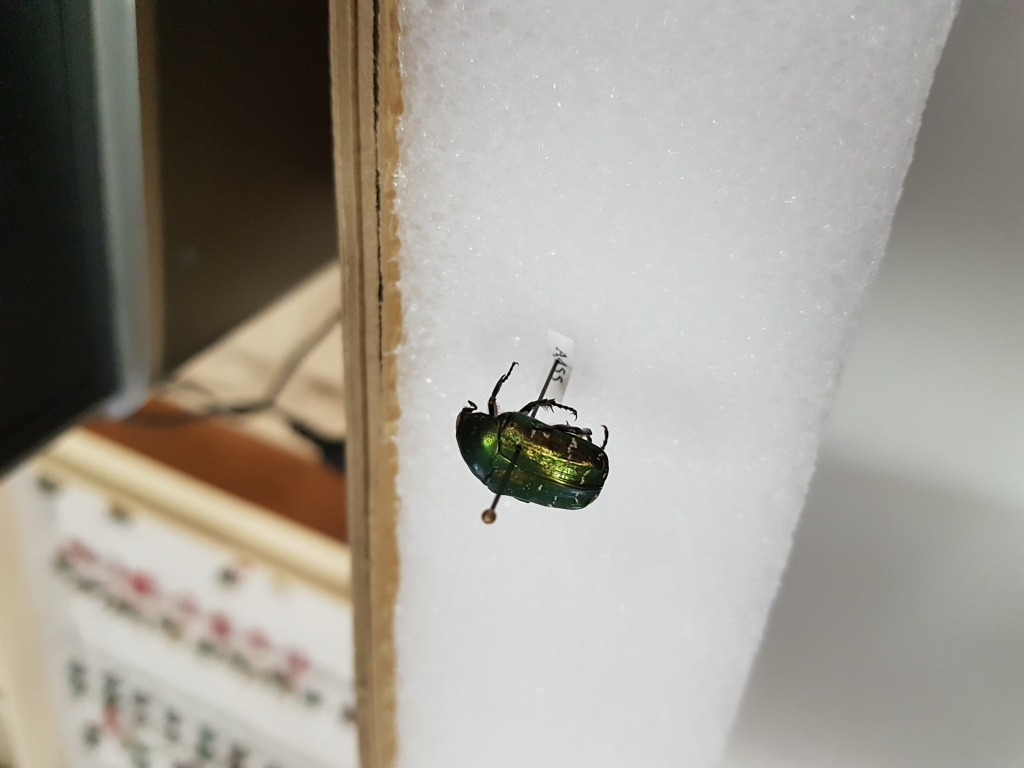Cetonia_kemali: (449, 353, 609, 512)
